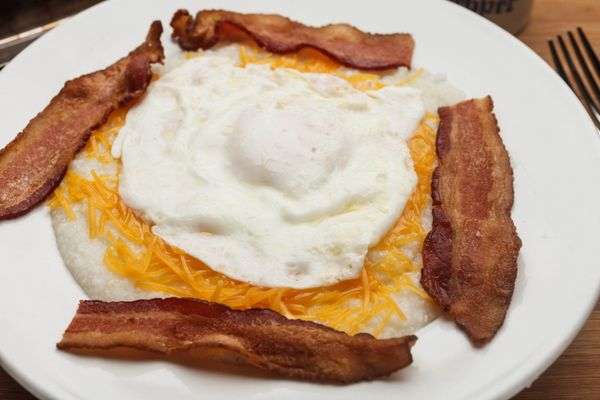burger: (548, 25, 600, 137)
pizza: (453, 0, 533, 34)
